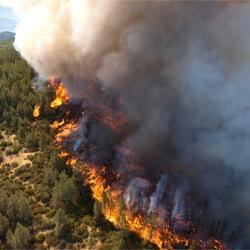fire: (51, 89, 68, 108), (92, 179, 104, 202), (32, 105, 42, 116)
smoke: (192, 28, 250, 175)
